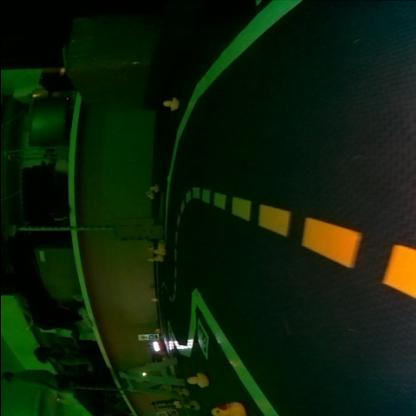Duckie: (209, 402, 244, 415), (186, 374, 208, 388), (161, 98, 177, 112), (186, 401, 198, 411), (152, 246, 164, 256), (179, 388, 187, 398), (148, 185, 156, 193), (152, 256, 162, 262), (146, 194, 152, 200)
Duckiebot: (149, 340, 165, 364)
Intersection sign: (136, 336, 146, 342)
QR code: (196, 319, 206, 359), (148, 335, 156, 341)
